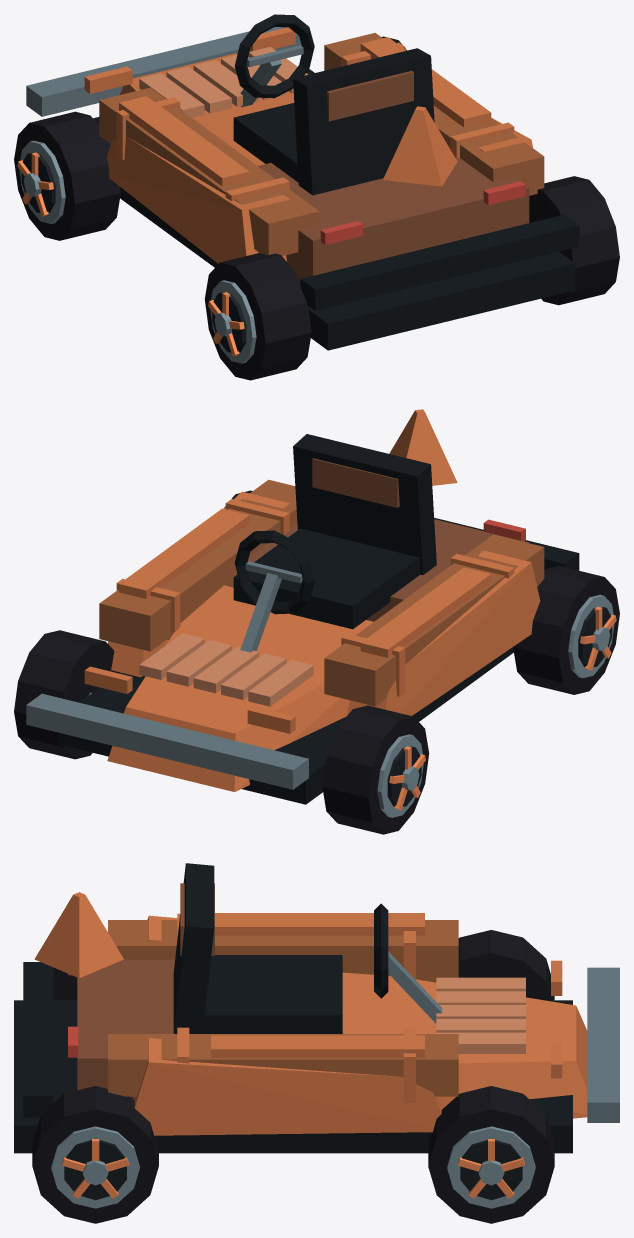
File: kart.glb
The picture shows the model from 3 angles, top to bottom: view 1: azimuth 30°, elevation 25°; view 2: azimuth 150°, elevation 25°; view 3: azimuth 270°, elevation 25°; orthographic projection. The views are drawn at different scales.
Parts seen in each view (by area): view 1: chassis, wheel-rear-left, wheel-front-left, wheel-rear-right; view 2: chassis, wheel-front-left, wheel-rear-left, wheel-front-right; view 3: chassis, wheel-front-right, wheel-rear-right, wheel-front-left, wheel-rear-left.
Part boxes in pixels (x1,y1,x2,y2): chassis: [26, 14, 579, 350]; wheel-rear-left: [204, 253, 311, 380]; wheel-front-left: [14, 111, 120, 240]; wheel-rear-right: [529, 176, 619, 305]; chassis: [26, 409, 579, 804]; wheel-front-left: [322, 705, 429, 834]; wheel-rear-left: [513, 566, 619, 694]; wheel-front-right: [14, 630, 119, 759]; chassis: [14, 863, 619, 1153]; wheel-front-right: [428, 1086, 554, 1223]; wheel-rear-right: [32, 1086, 158, 1223]; wheel-front-left: [458, 930, 554, 1000]; wheel-rear-left: [53, 968, 77, 1000].
Bounding box in the file's own units: 2.25 × 1.3 × 2.97.
